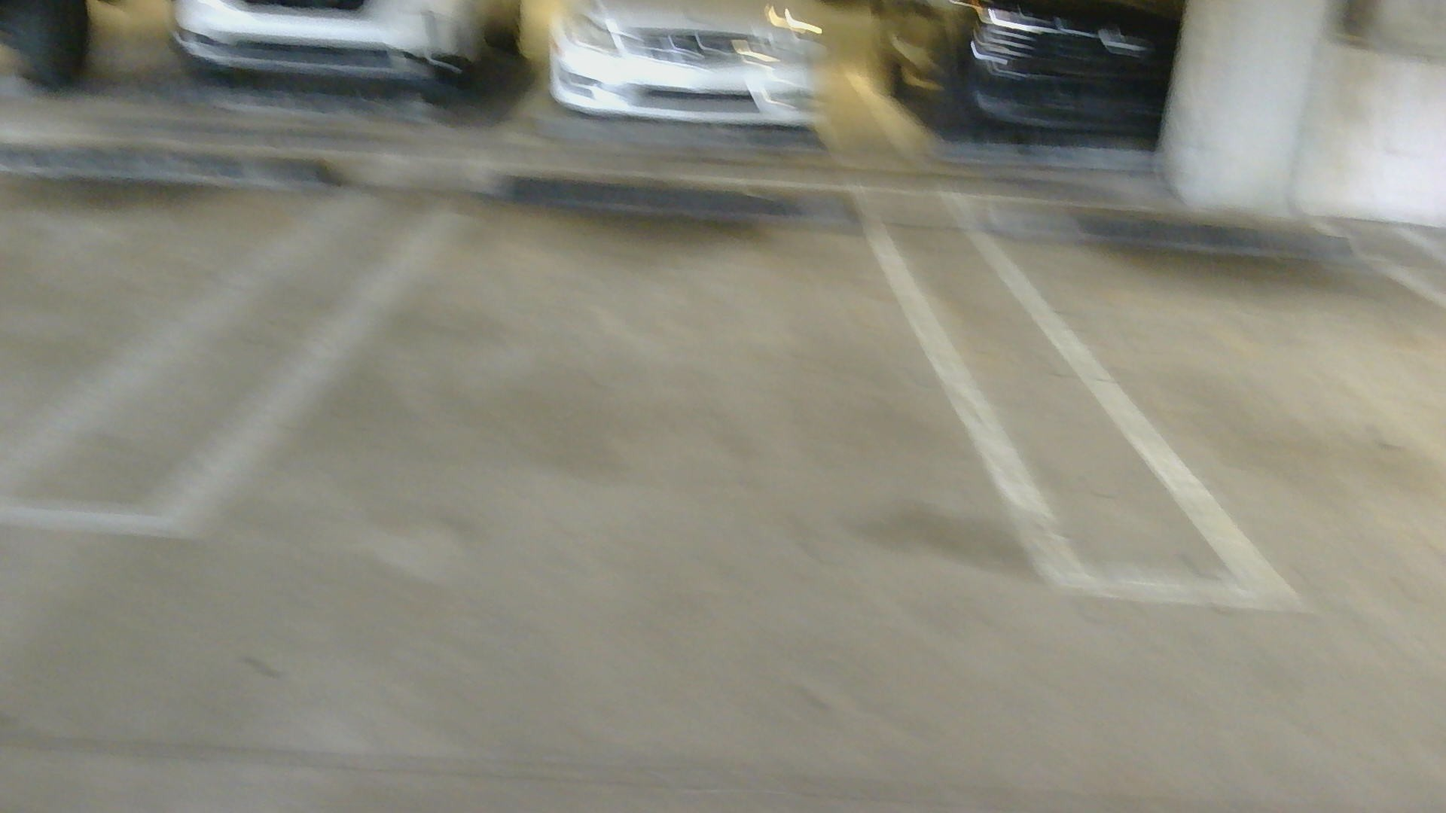empty_spot: (58, 138, 1203, 581), (932, 196, 1445, 598), (0, 143, 363, 515)
